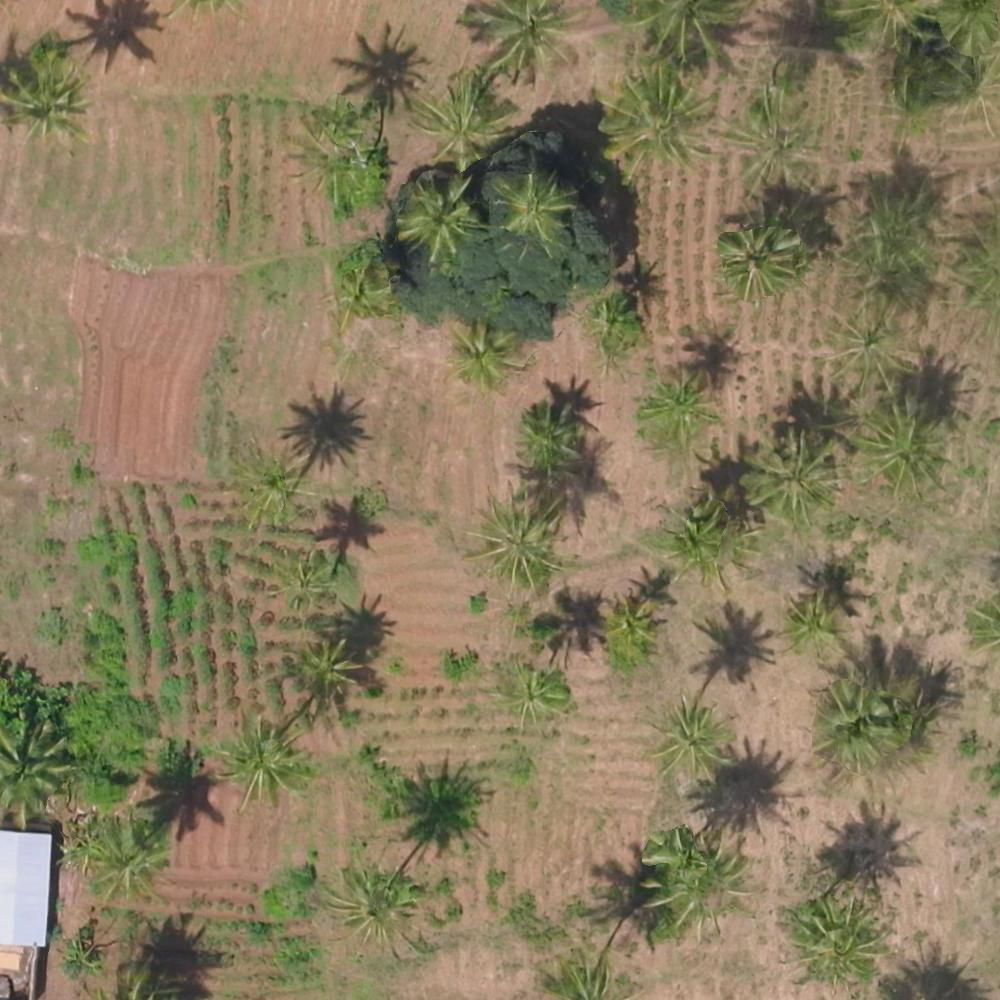Palm: (469, 491, 570, 596), (605, 69, 703, 173), (644, 831, 743, 929), (854, 405, 949, 496), (791, 891, 886, 982), (808, 682, 898, 773), (744, 431, 833, 522), (469, 2, 575, 77), (415, 76, 508, 159), (214, 721, 301, 807), (326, 866, 416, 948), (825, 302, 908, 389), (715, 218, 798, 304), (657, 493, 743, 574), (4, 52, 85, 136), (1, 726, 74, 815), (636, 367, 714, 445), (87, 823, 167, 899), (491, 171, 575, 243), (396, 184, 471, 261), (657, 700, 733, 771), (447, 323, 522, 392), (491, 664, 565, 732), (231, 452, 303, 521), (269, 552, 334, 610), (776, 589, 838, 647), (295, 638, 357, 693), (580, 299, 641, 352)
